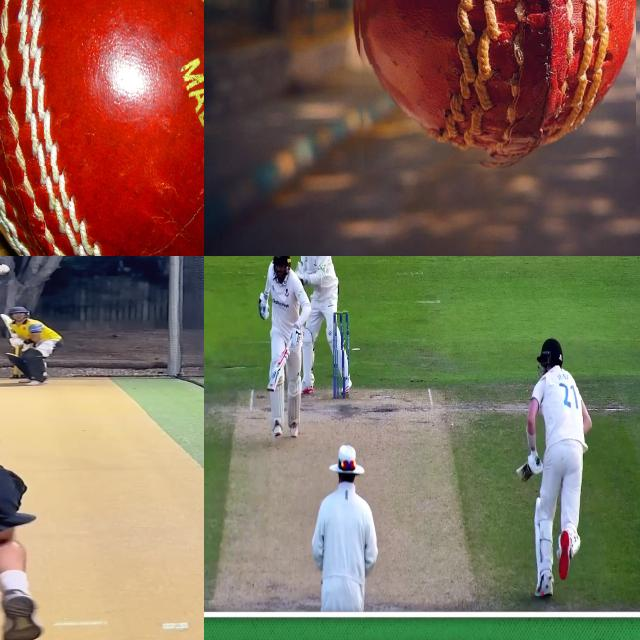Cricket ball: (0, 0, 204, 256), (352, 0, 636, 169), (0, 264, 10, 274)
Stumps: (333, 309, 349, 403)
